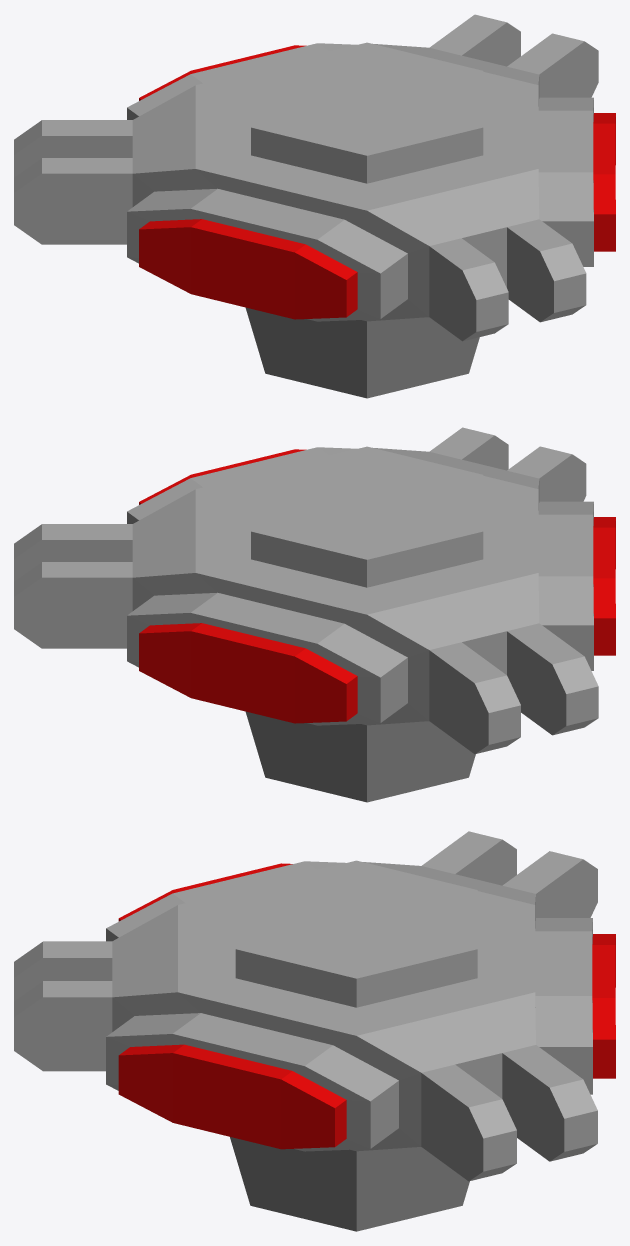
Rendered from SM_TurretLanderBody.fbx.
3 views of the same model, one above another, from view 1: azimuth 30°, elevation 25°; view 2: azimuth 150°, elevation 25°; view 3: azimuth 270°, elevation 25° (orthographic). The views are drawn at different scales.
Parts seen in each view (by area): view 1: pCylinder9; view 2: pCylinder9; view 3: pCylinder9.
Boxes of the visible parts, x1,y1,x2,y2 form: pCylinder9: (14, 14, 615, 398); pCylinder9: (14, 427, 615, 802); pCylinder9: (14, 831, 615, 1231).
Size of the model in its own units: 2276 by 929 by 1947.
